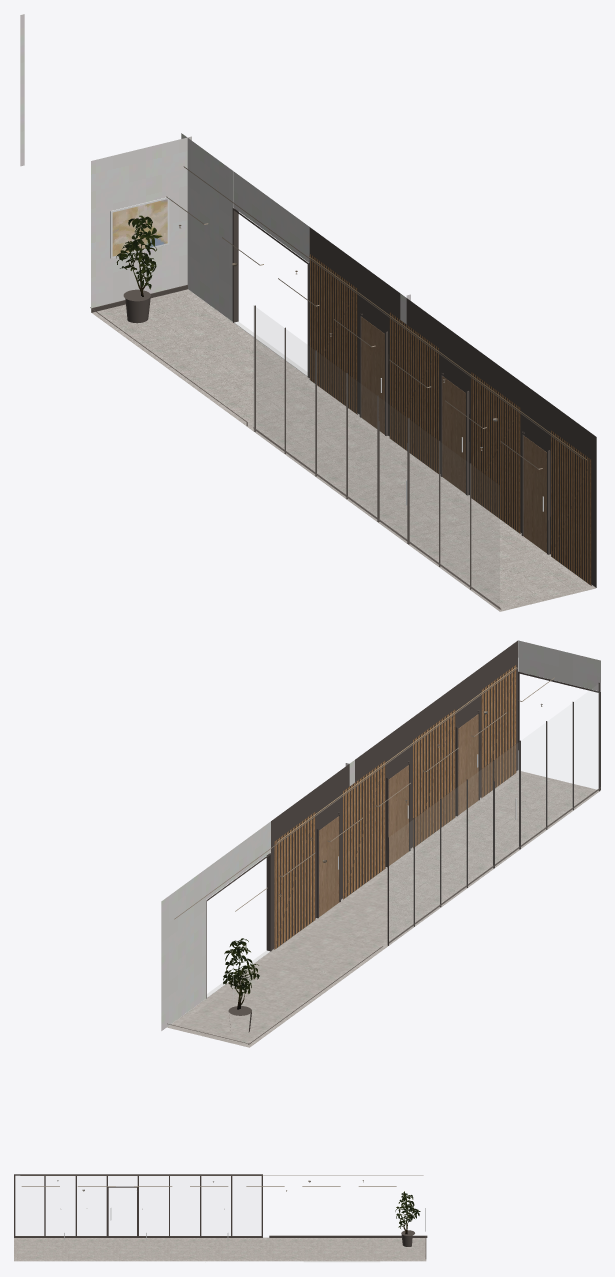
File: z-corridor-lite.full.37a1d389.glb
3 views of the same model, one above another, from view 1: azimuth 30°, elevation 25°; view 2: azimuth 150°, elevation 25°; view 3: azimuth 270°, elevation 25° (orthographic). The views are drawn at different scales.
Visible parts, largest first — view 1: corridor_terrazzo, corridor_proxy_slat, corridor_plaster, corridor_satin, corridor_oak, corridor_art, corridor_emit, corridor_veg_atlas, corridor_metal_lit; view 2: corridor_terrazzo, corridor_proxy_slat, corridor_satin, corridor_plaster, corridor_oak, corridor_emit, corridor_veg_atlas; view 3: corridor_terrazzo, corridor_satin, corridor_emit, corridor_veg_atlas, corridor_metal_lit.
Boxes of the visible parts, x1,y1,x2,y2 form: corridor_terrazzo: (91,289,595,611); corridor_proxy_slat: (309,254,591,585); corridor_plaster: (20,14,410,324); corridor_satin: (90,208,596,609); corridor_oak: (361,317,546,553); corridor_art: (112,199,167,256); corridor_emit: (166,166,587,469); corridor_veg_atlas: (116,215,162,296); corridor_metal_lit: (110,197,543,511); corridor_terrazzo: (167,770,600,1047); corridor_proxy_slat: (274,665,516,949); corridor_satin: (167,640,600,1044); corridor_plaster: (161,640,600,1030); corridor_oak: (319,714,478,916); corridor_emit: (174,667,554,919); corridor_veg_atlas: (223,938,259,1009); corridor_terrazzo: (14,1237,426,1261); corridor_satin: (14,1174,427,1258); corridor_emit: (20,1175,423,1186); corridor_veg_atlas: (395,1191,420,1234); corridor_metal_lit: (64,1208,425,1262).
Bounding box in the file's own units: 2.3 × 3.35 × 23.
11 materials, 7 textured.
